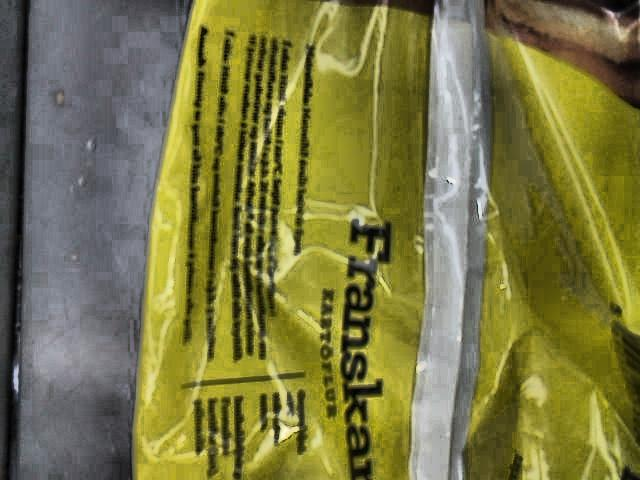Plastic: (134, 0, 640, 480)
